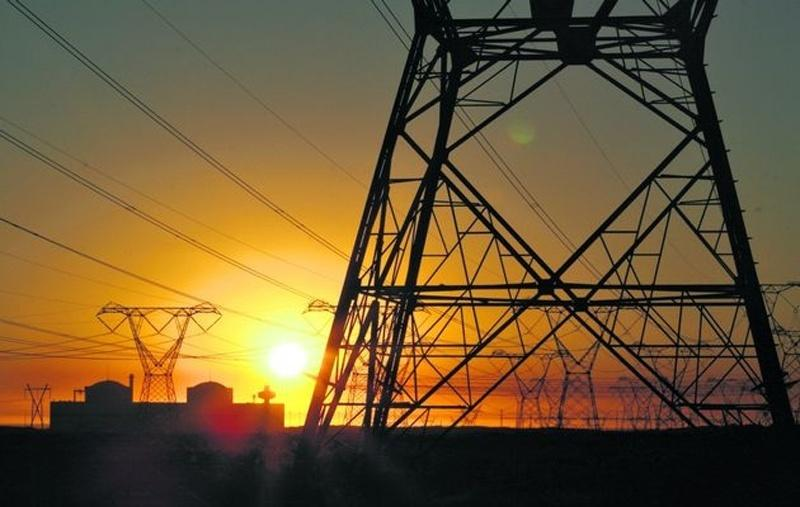power_tower: (292, 8, 790, 451), (78, 290, 215, 405)
